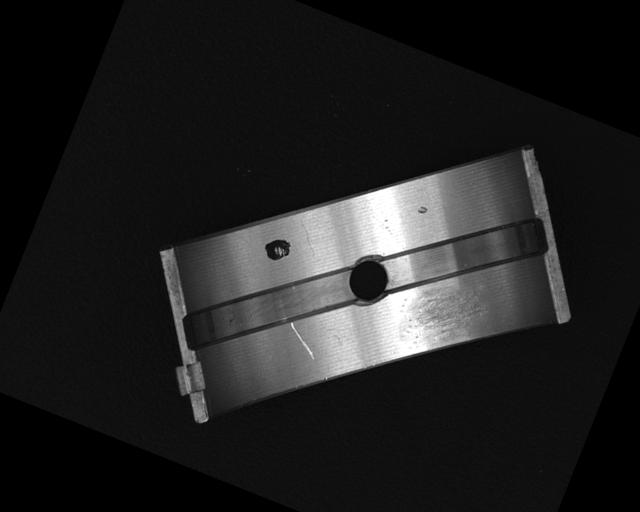blot: (259, 232, 294, 266)
bruise: (415, 204, 428, 216)
gap: (171, 221, 363, 402), (378, 171, 558, 333)
hole: (341, 248, 400, 311)
nick: (280, 320, 325, 361), (289, 218, 324, 260)
scratch: (386, 268, 493, 375)
